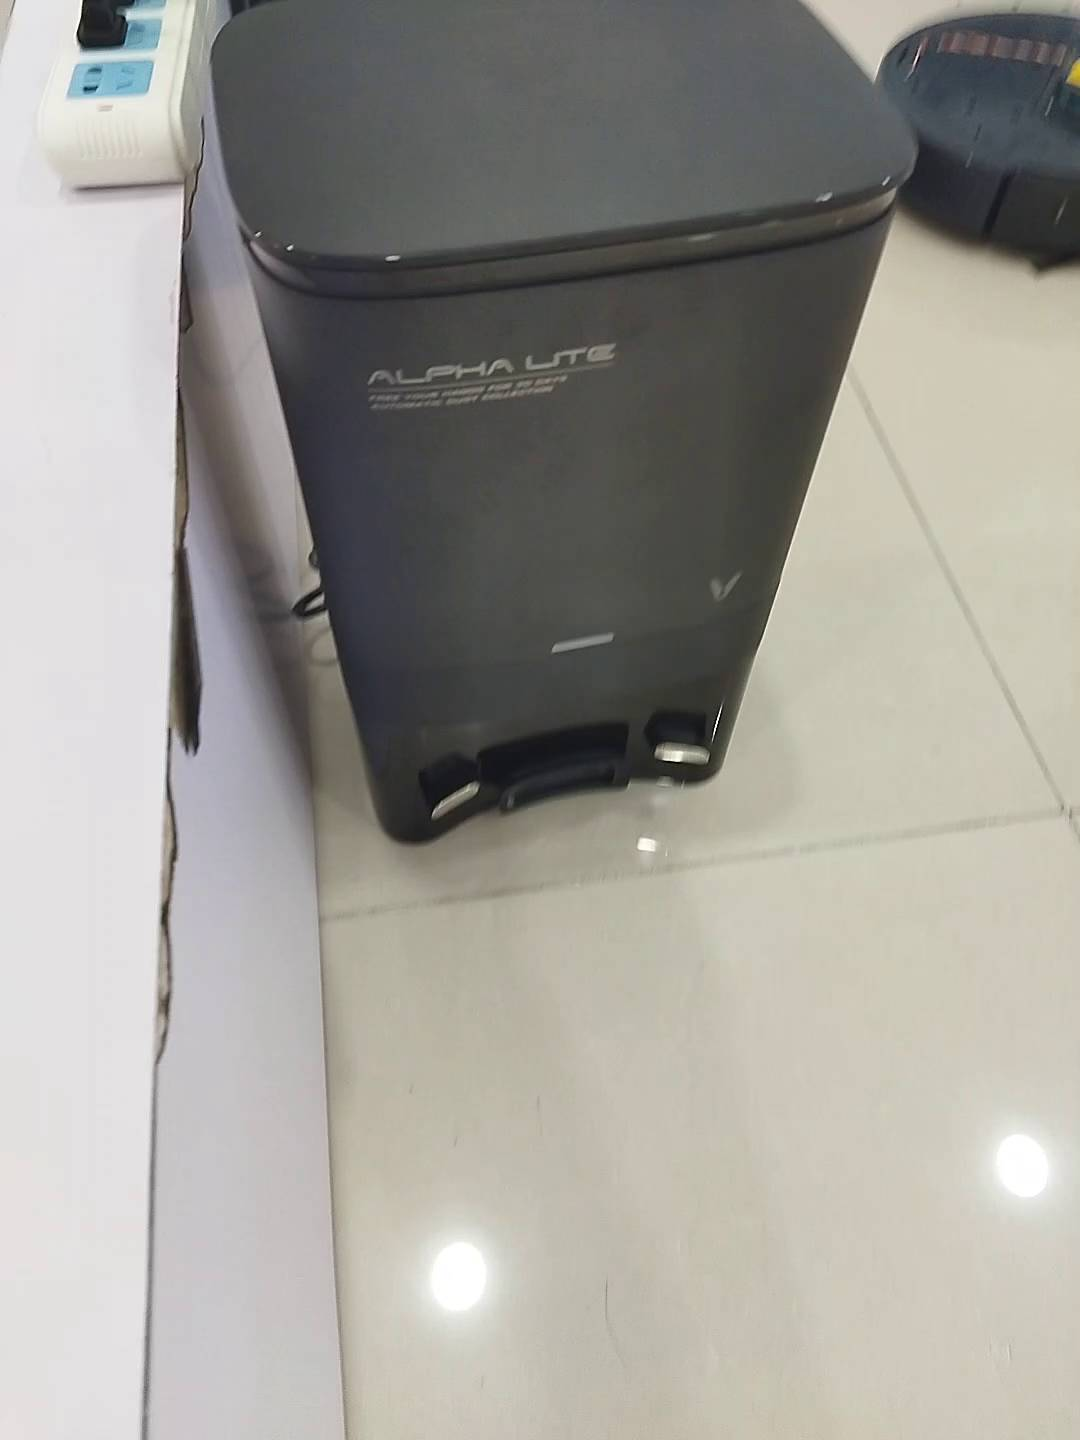dust collecting barrel: (210, 1, 919, 846)
